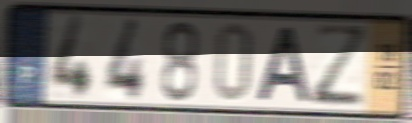0: (211, 20, 254, 106)
4: (49, 12, 94, 104), (102, 15, 147, 103)
8: (160, 18, 200, 104)
A: (254, 24, 314, 105)
Z: (310, 21, 372, 110)
